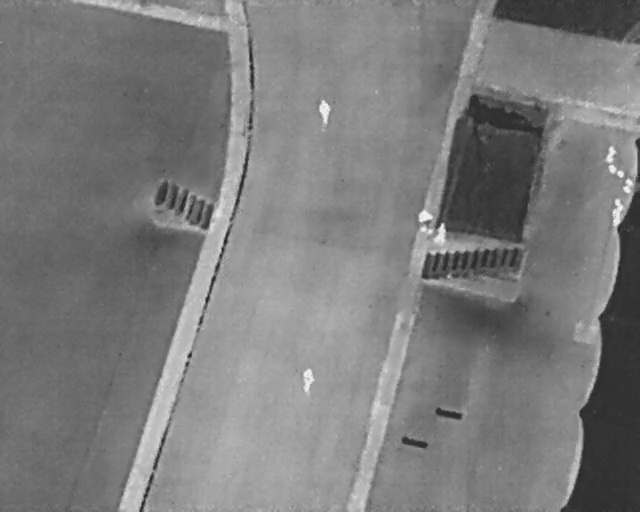Person: (316, 96, 333, 127), (416, 207, 434, 234), (299, 366, 315, 393), (434, 222, 448, 245), (610, 210, 623, 228), (612, 198, 625, 211)
